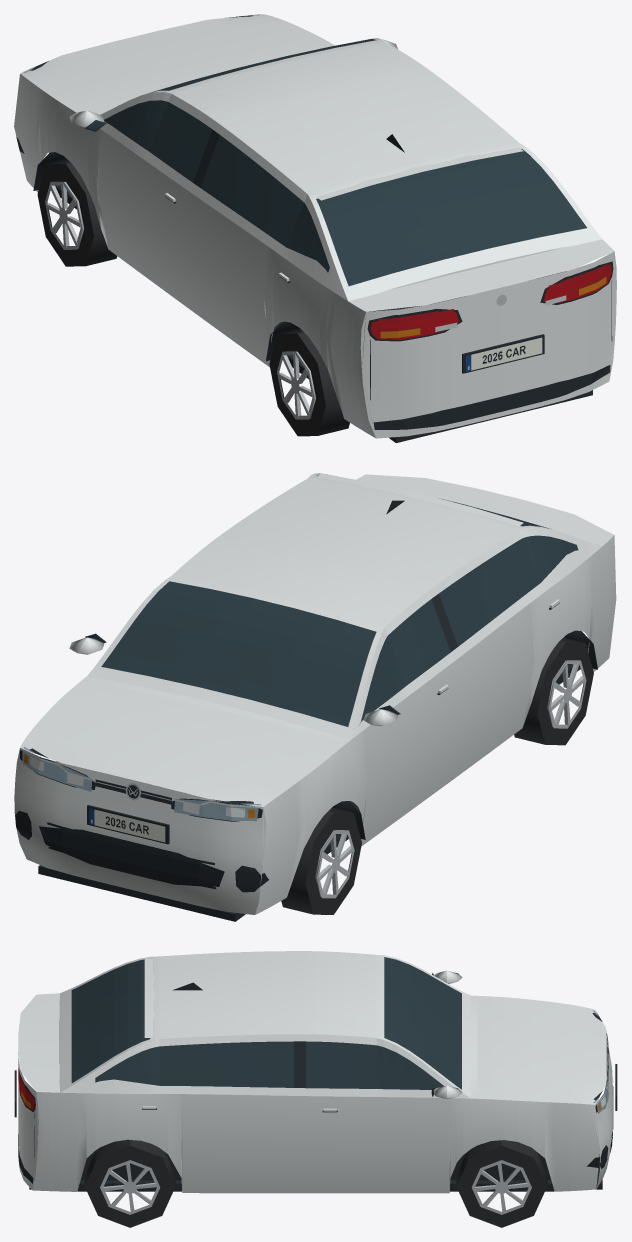
Rendered from Entrega_1_LOD2.glb.
The picture shows the model from 3 angles, top to bottom: view 1: azimuth 30°, elevation 25°; view 2: azimuth 150°, elevation 25°; view 3: azimuth 270°, elevation 25°; orthographic projection. The views are drawn at different scales.
Visible parts, largest first — view 1: Body, Glass, Wheel_RL, Wheel_FL, TailLights, Plates, BrakeLights; view 2: Body, Glass, Wheel_FL, Wheel_RL, Headlights, Plates; view 3: Body, Glass, Wheel_RR, Wheel_FR.
Boxes of the visible parts, bbox=[...] form: Body: bbox=[14, 14, 616, 442]; Glass: bbox=[85, 38, 586, 285]; Wheel_RL: bbox=[269, 328, 349, 436]; Wheel_FL: bbox=[37, 159, 117, 266]; TailLights: bbox=[371, 264, 611, 339]; Plates: bbox=[466, 337, 542, 371]; BrakeLights: bbox=[376, 264, 608, 332]; Body: bbox=[14, 473, 616, 921]; Glass: bbox=[85, 474, 578, 726]; Wheel_FL: bbox=[281, 807, 361, 914]; Wheel_RL: bbox=[514, 637, 593, 745]; Headlights: bbox=[21, 747, 260, 821]; Plates: bbox=[89, 808, 165, 842]; Body: bbox=[14, 951, 617, 1193]; Glass: bbox=[71, 957, 461, 1096]; Wheel_RR: bbox=[84, 1139, 175, 1227]; Wheel_FR: bbox=[456, 1140, 547, 1227].
Bounding box in the file's own units: 2.13 × 1.51 × 4.28.
11 materials, 1 textured.
